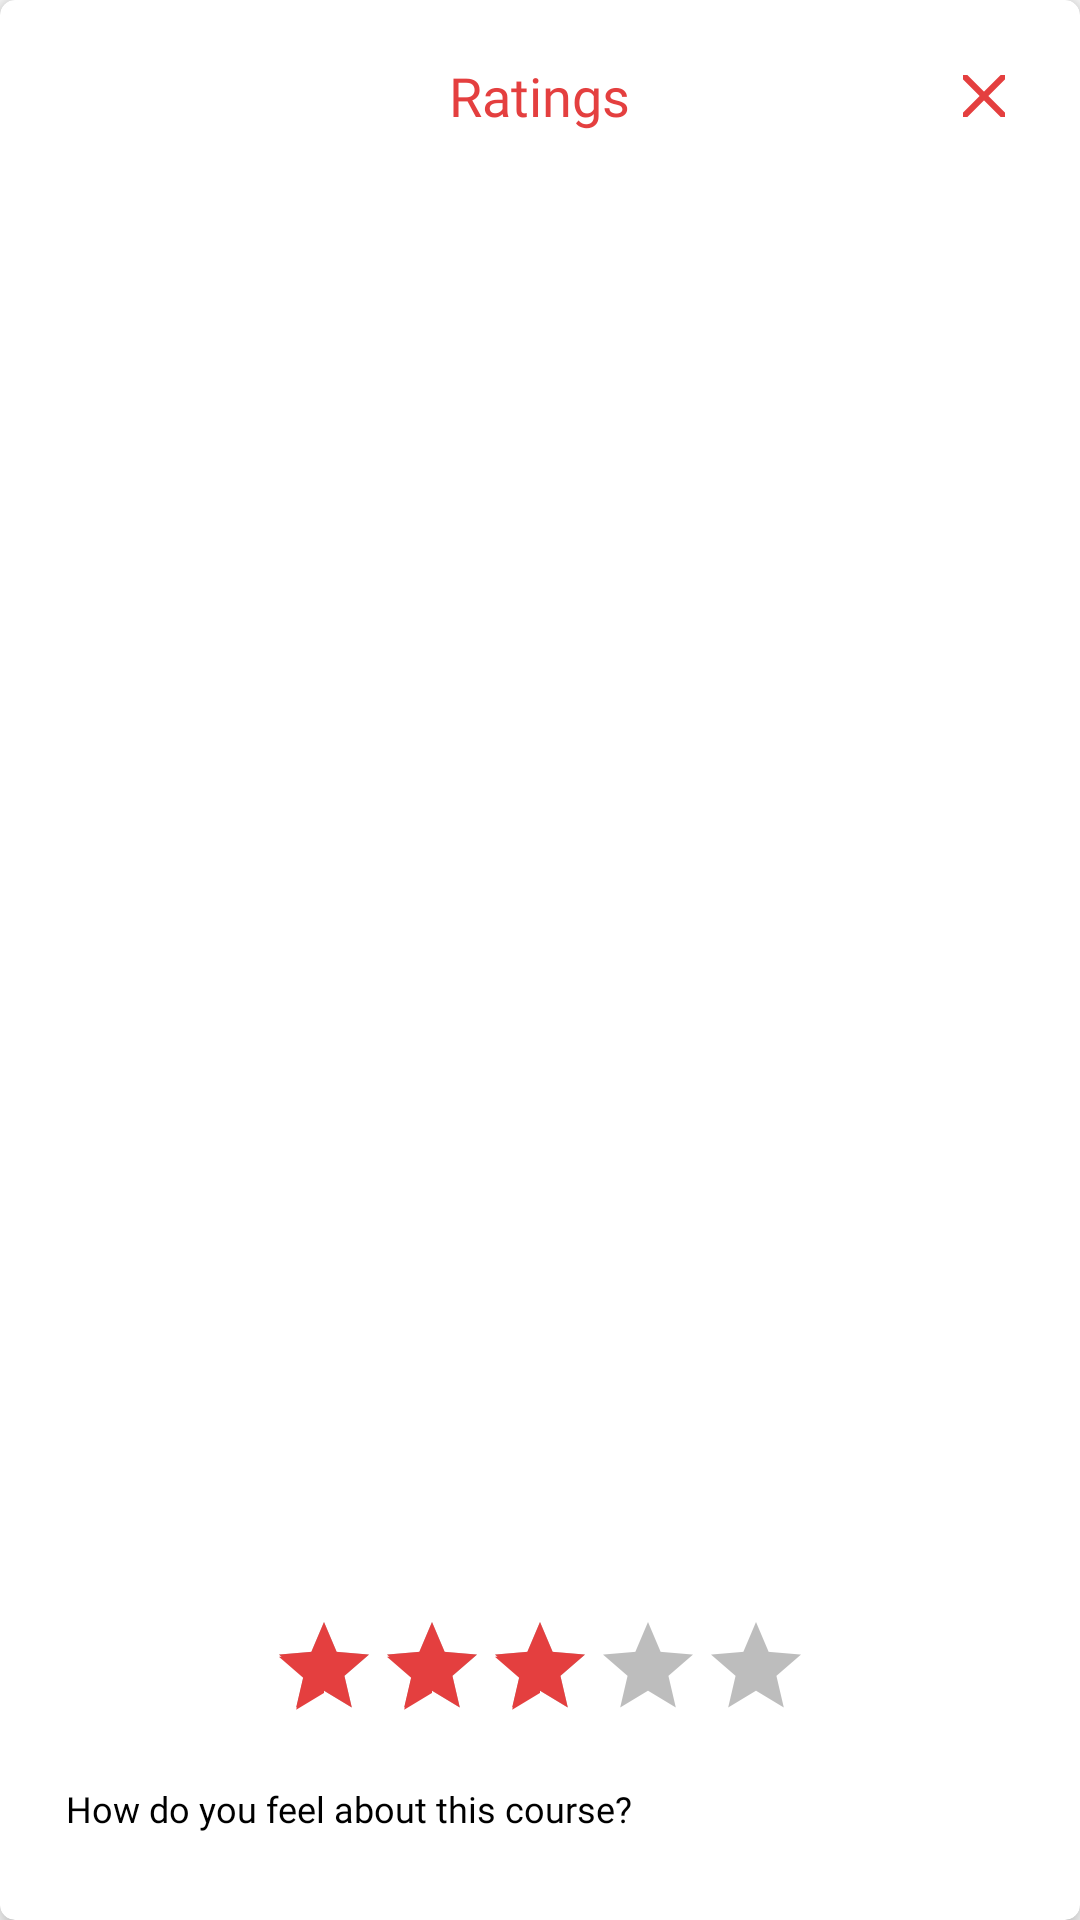

Locate icon controls on the screen. Image size 1080×1920, boxes as [x1=x1, y1=y1, x2=x2, y2=y2].
close: [x1=963, y1=75, x2=1005, y2=117]
